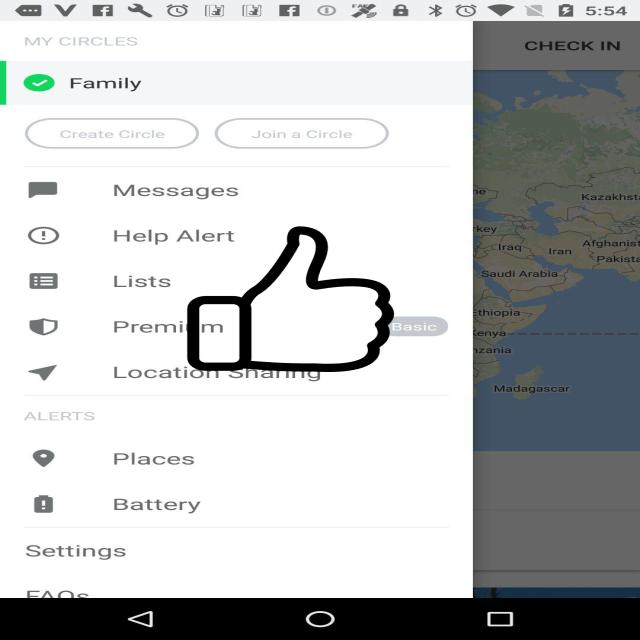privacy zuckering: (184, 226, 397, 372)
